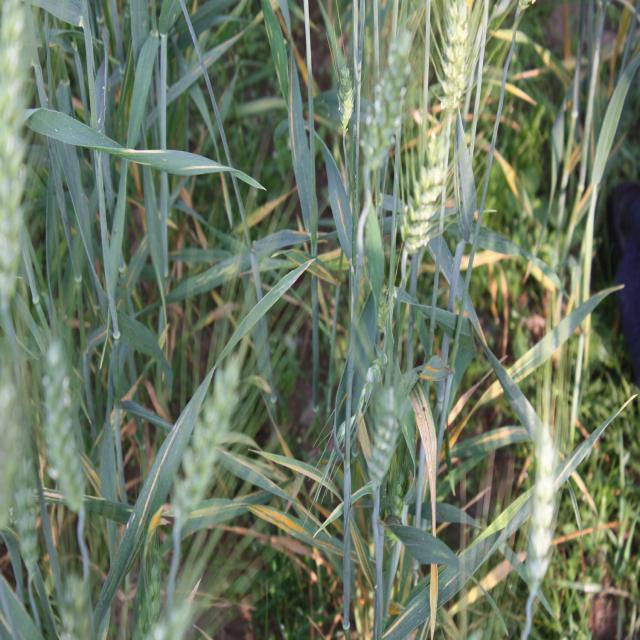Yellow Rust: (246, 505, 342, 554)
